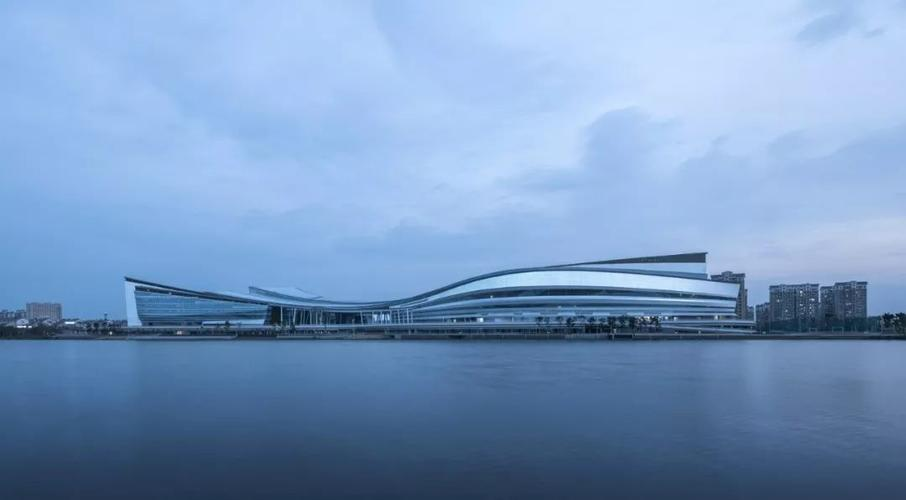sky_cloud: (72, 80, 906, 255)
